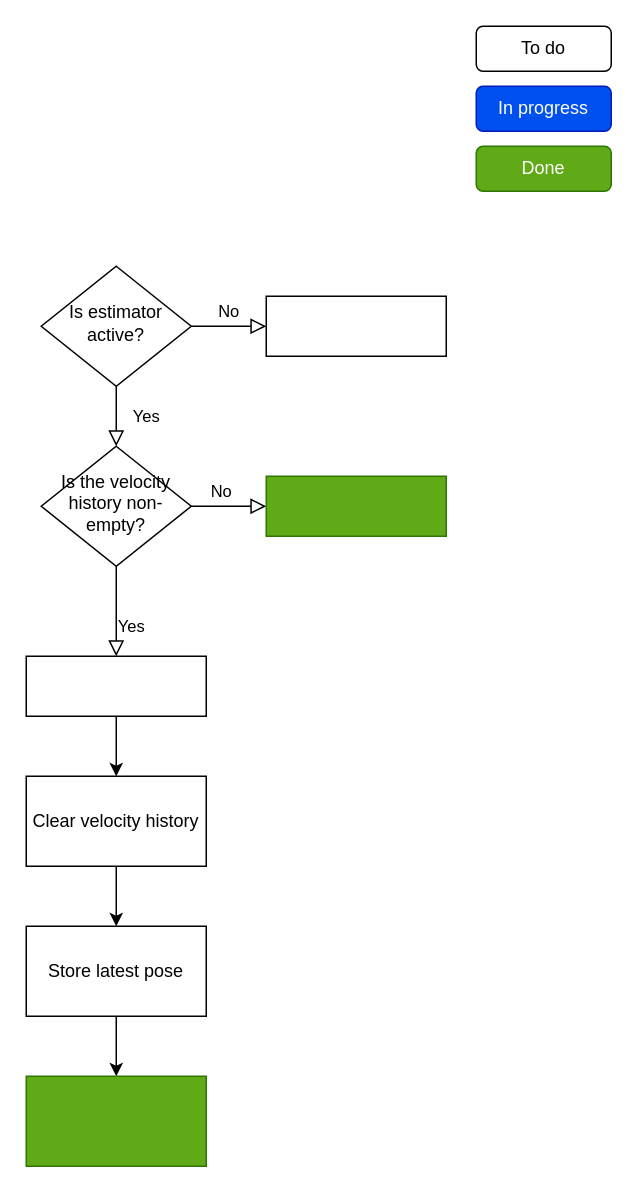
Image size: 638x1193. Some labels were removed from this diagram. The centre of each missing label's shape, as x and y in pixels:
"Dead-reckon the data up to the current data point" belongs at pixel 115 685.
"Log a message and exit" belongs at pixel 355 325.
"Publish estimated pose" belongs at pixel 115 1120.
"Publish latest pose" belongs at pixel 355 505.
